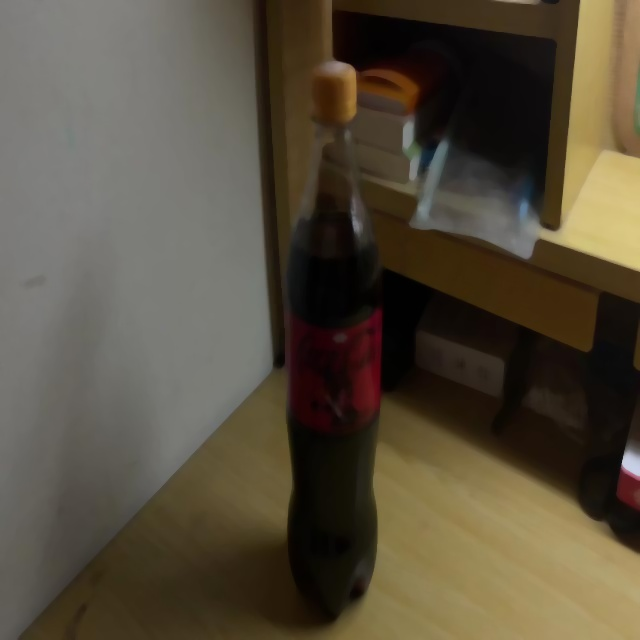Coca-Cola: (285, 62, 382, 623)
